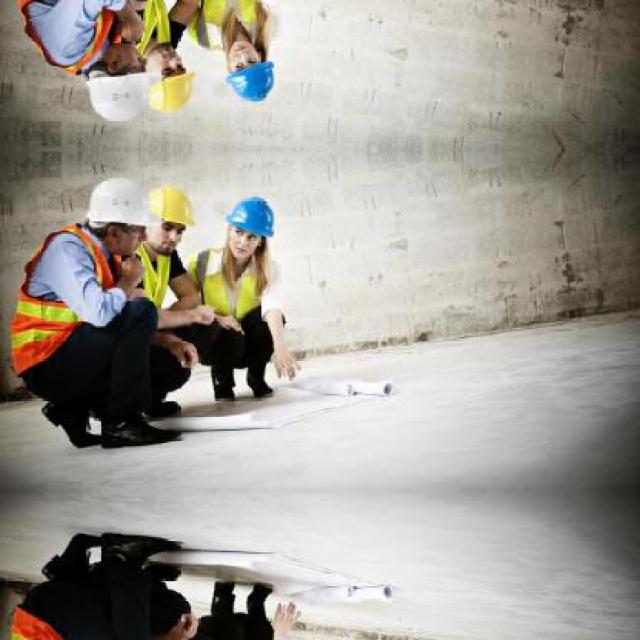helmet: (82, 173, 158, 252), (82, 44, 158, 122), (140, 42, 198, 112), (140, 184, 198, 253), (224, 192, 271, 254), (224, 42, 271, 103)
